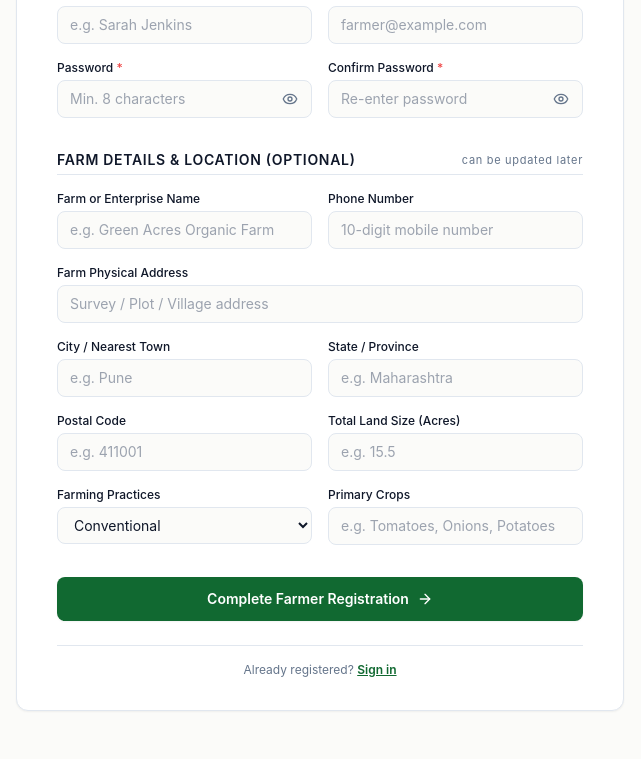
Test: FarmerRegisterPage › clears field error when user modifies that field
This screenshot has width=641, height=759.
(page scrolled)
Step 1. Click the button "Complete Farmer Registration" → [320, 599], box [57,577,583,621]
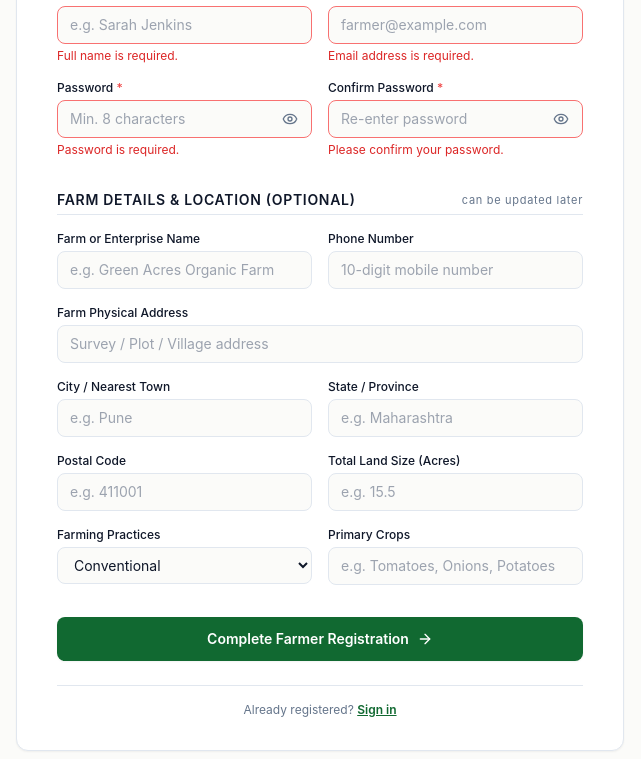
Result: the text "Full name is required." is shown at [57,48,178,63]
Step 2. Type "Farmer John" into the field labelled "Full Name *" → [184, 25], box [57,6,312,44]
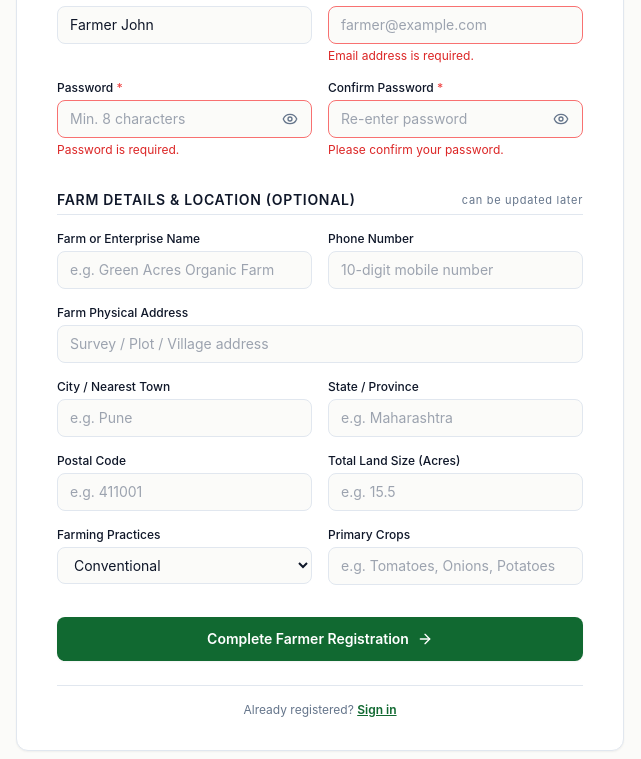
Result: the text "Full name is required" is gone
